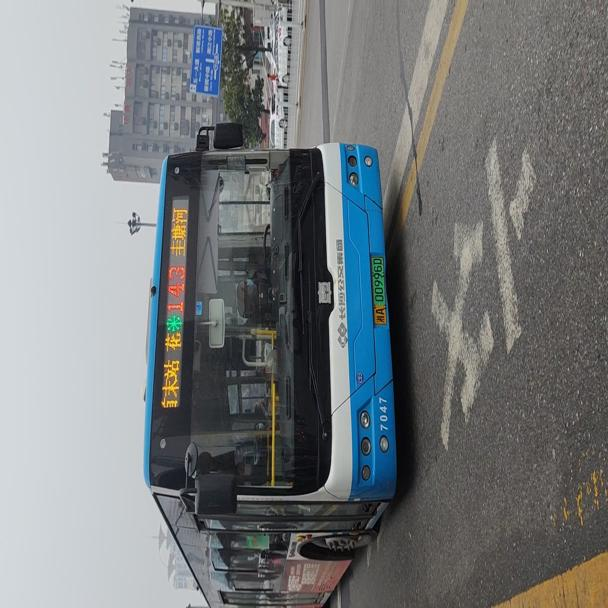bus: (142, 121, 397, 601)
screen: (159, 258, 188, 311)
